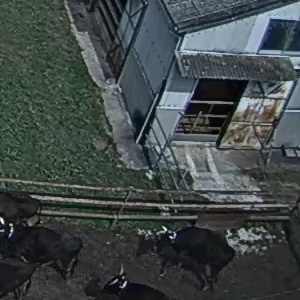cow: (1, 212, 90, 271), (134, 224, 248, 268), (87, 266, 175, 300)
